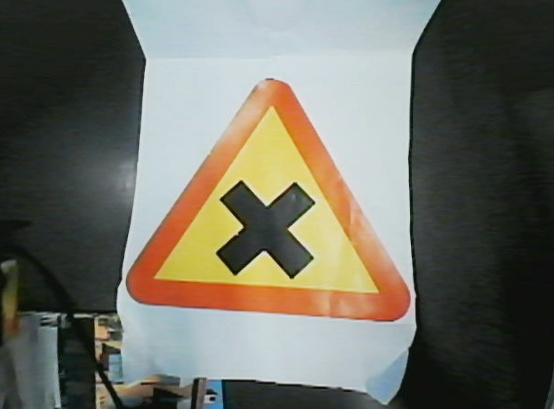junction: (121, 71, 415, 322)
